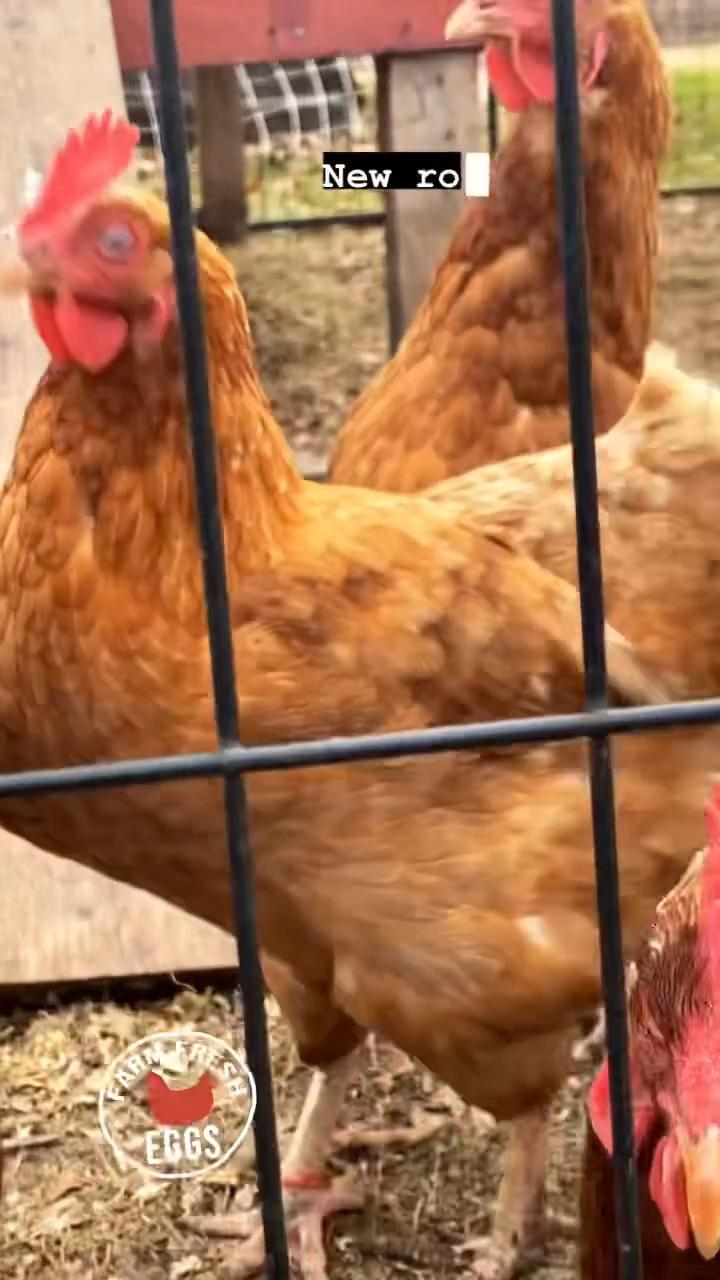rooster: (1, 106, 719, 1279), (323, 0, 679, 489), (569, 770, 719, 1279)
